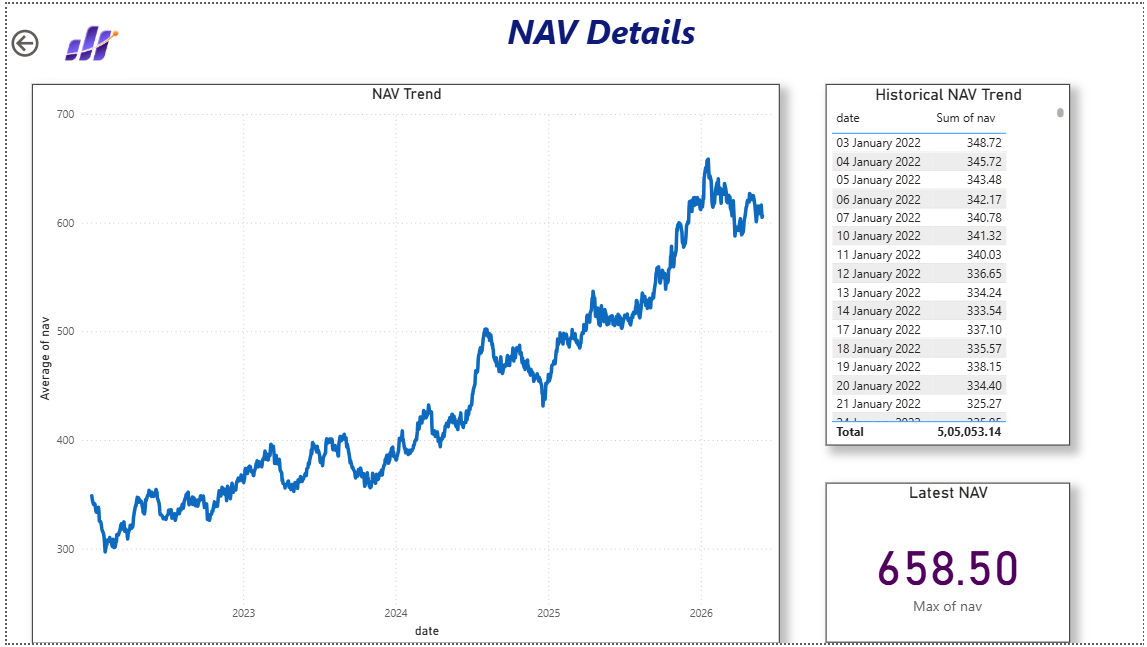

The page's visual inventory and layout, read from the dashboard file:
{"tool":"powerbi","page":{"name":"NAV Detail ","canvas":[1280,720],"ordinal":4},"visuals":[{"type":"actionButton","box":[0,24.3,100,40.5],"z":0},{"type":"lineChart","title":"NAV Trend","fields":{"Category":["02_nav_history_cleaned.date"],"Y":["Avg(02_nav_history_cleaned.nav)"]},"box":[140.5,0,786.5,718.9],"z":1000},{"type":"card","title":"Latest NAV","fields":{"Values":["Max(02_nav_history_cleaned.nav)"]},"box":[971.8,475.6,275.6,244.9],"z":2000},{"type":"tableEx","title":"Historical NAV Trend","fields":{"Values":["02_nav_history_cleaned.date","Sum(02_nav_history_cleaned.nav)"]},"box":[971.8,0,275.6,451.3],"z":2001},{"type":"image","box":[51.4,0,89.2,89.2],"z":2002}]}

Visuals, with their boxes in screenshot pixels (x1, y1, x2, y2), scaled from the page's 1280x720 canvas onto the 1147x647 screenshot:
actionButton: 0/22/90/58
"NAV Trend" lineChart: 126/0/831/646
"Latest NAV" card: 871/427/1118/646
"Historical NAV Trend" tableEx: 871/0/1118/406
image: 46/0/126/80
